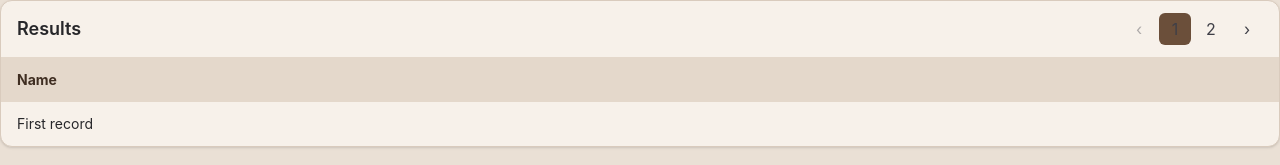
Test: Results table › pages through records without knowing their columns
Expected: the text "First record" is shown, [1, 102, 1279, 146]
Expected: the text "Second record" is not shown
Click the button named "Next page" at [1247, 29], box [1231, 13, 1263, 45]
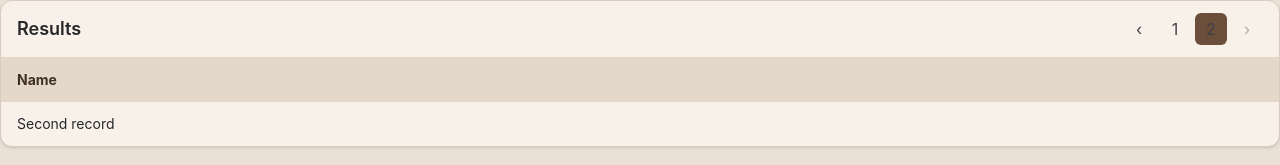
Expected: the text "Second record" is shown, [1, 102, 1279, 146]
Expected: the text "First record" is gone
